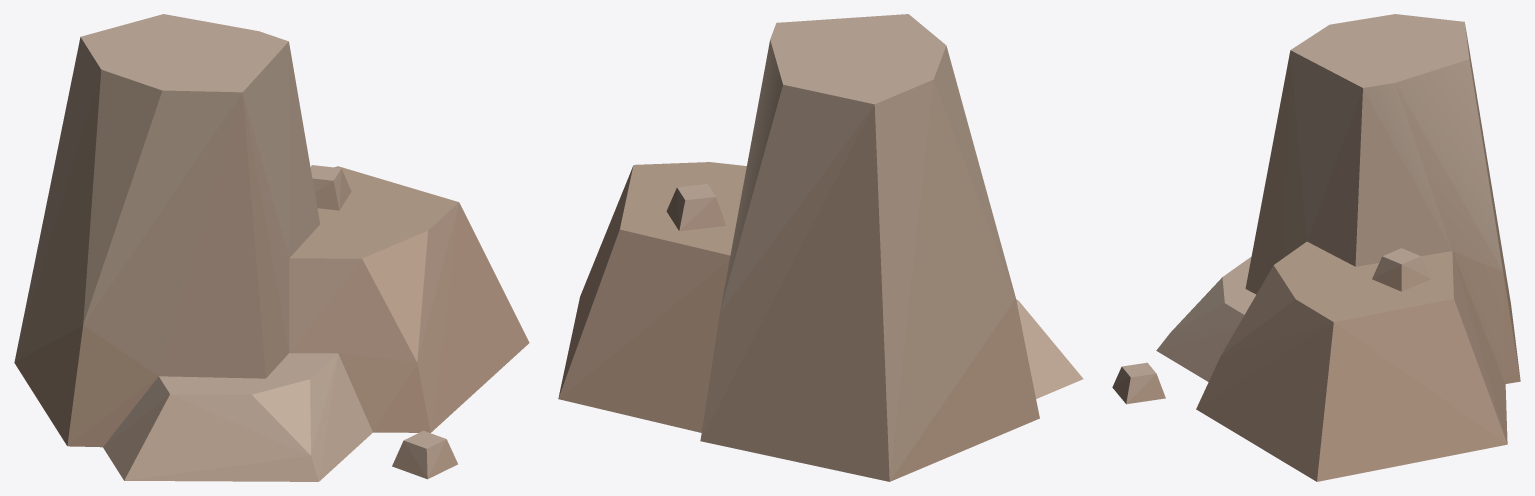
Rendered from ksv_rock-sand-a.fbx.
The picture shows the model from 3 angles, left to right: view 1: azimuth 30°, elevation 25°; view 2: azimuth 150°, elevation 25°; view 3: azimuth 270°, elevation 25°; orthographic projection. The views are drawn at different scales.
Visible parts, largest first — view 1: rock-sand-a; view 2: rock-sand-a; view 3: rock-sand-a.
Boxes of the visible parts, x1=… form: rock-sand-a: x1=14, y1=14, x2=529, y2=481; rock-sand-a: x1=558, y1=14, x2=1083, y2=481; rock-sand-a: x1=1112, y1=14, x2=1520, y2=481.
Bounding box in the file's own units: 55.52 × 39.27 × 48.45.
